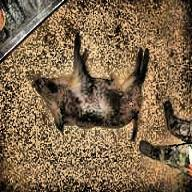boar: (26, 33, 167, 136)
